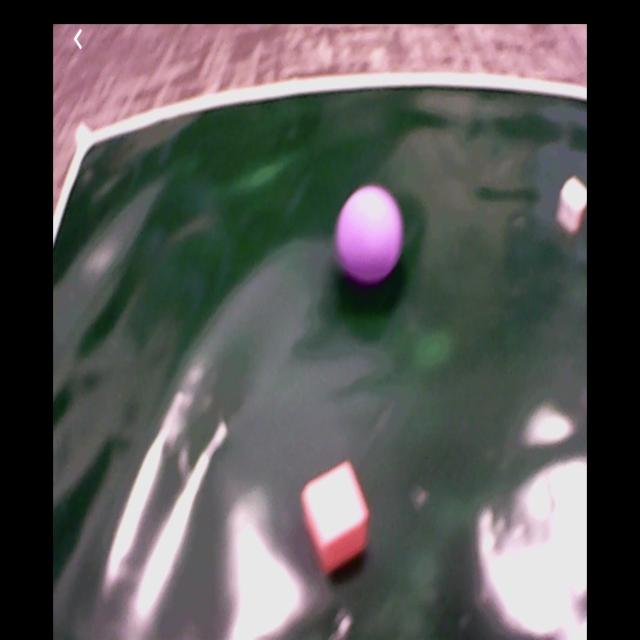ball: (338, 184, 403, 286)
